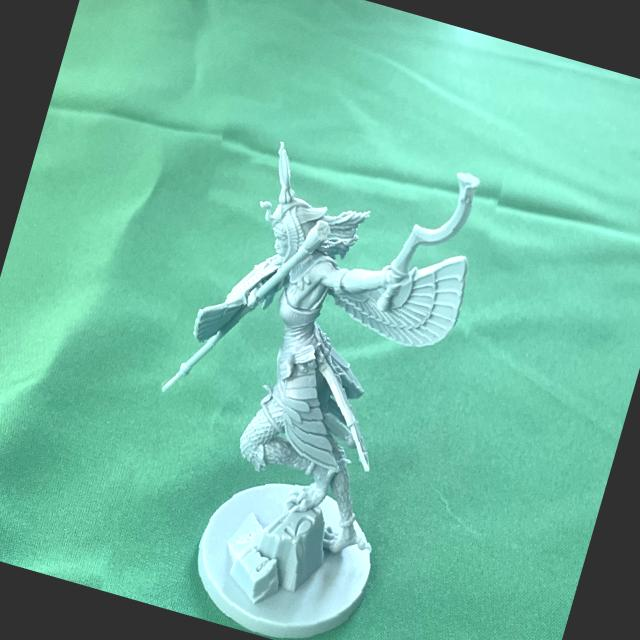isis: (95, 94, 517, 640)
